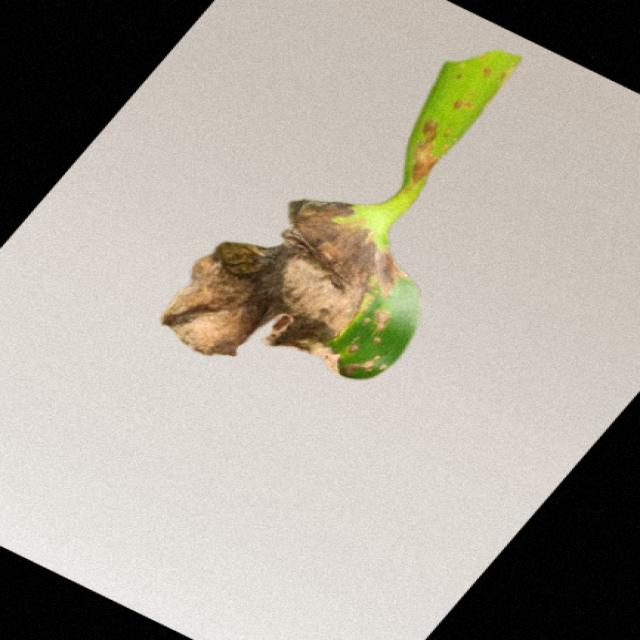daun berpenyakit karat: (162, 51, 520, 378)
